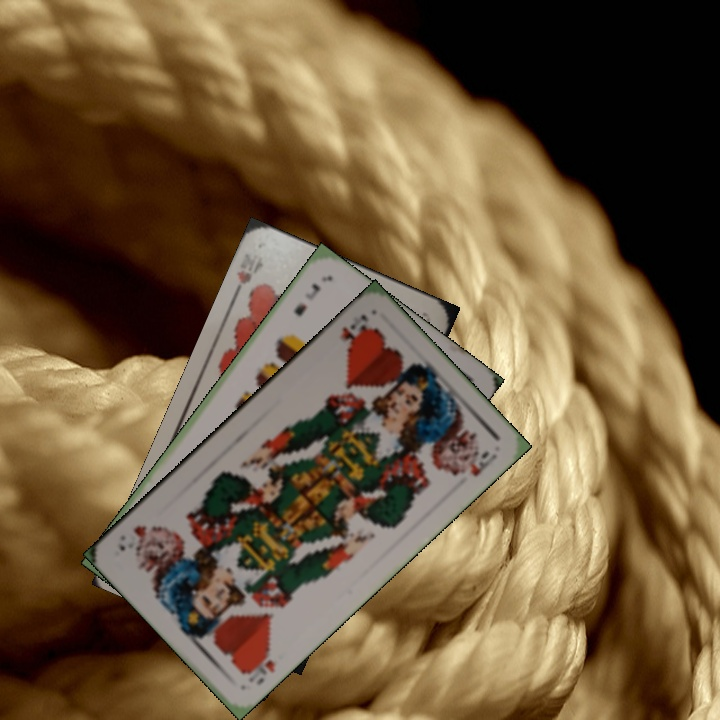E7: (289, 279, 324, 319)
H10: (228, 265, 255, 302)
HO: (239, 645, 278, 688), (335, 309, 373, 353)
